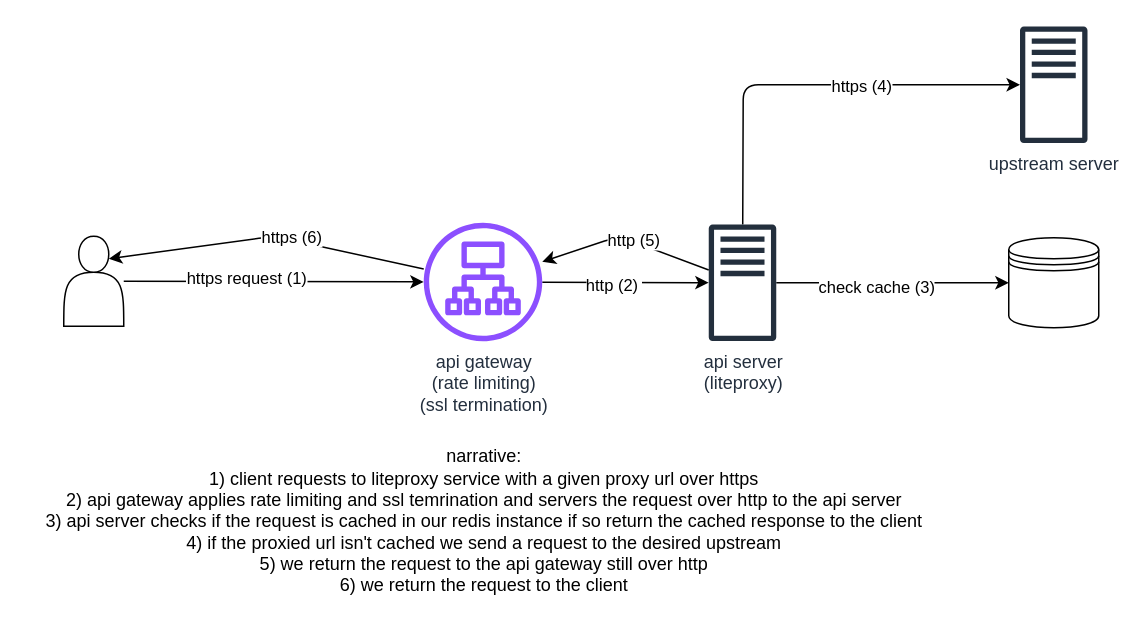
Some shapes in this 1145 by 629 pixel diagram are drawn without their labels. The centre of each missing label's shape, as x and y in pixels:
"client" goes at (x=93, y=280).
"redis" goes at (x=1053, y=282).
